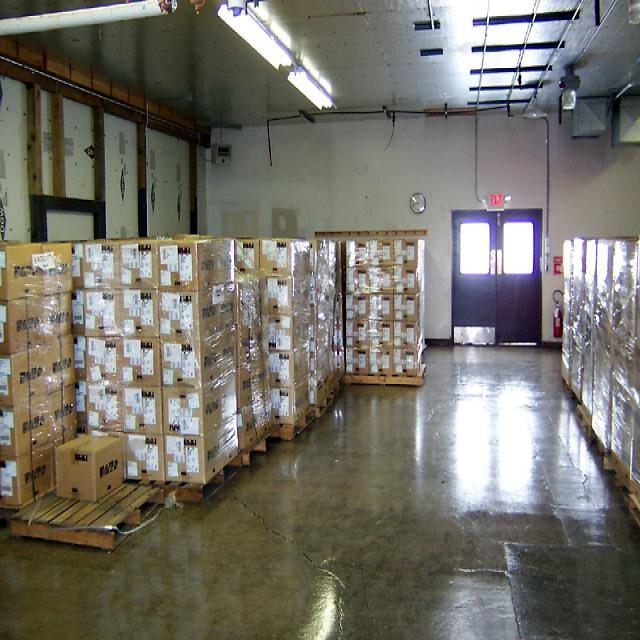box contants: (54, 429, 123, 500)
ceiling beam: (1, 0, 638, 131)
clock crop: (408, 192, 423, 212)
double door crop: (451, 208, 540, 347)
fire extinguisher: (552, 296, 559, 337)
floor -X: (1, 348, 638, 639)
lamp crop: (216, 0, 295, 69), (287, 65, 332, 109)
package: (74, 231, 267, 483), (234, 233, 343, 421), (1, 239, 78, 505), (559, 235, 638, 488), (347, 235, 426, 375)
pallet: (124, 425, 279, 504), (10, 473, 162, 548), (570, 401, 638, 529), (277, 368, 345, 440), (345, 364, 425, 384)
sign: (490, 192, 501, 205)
wall clock: (210, 100, 637, 351), (1, 33, 214, 513)
